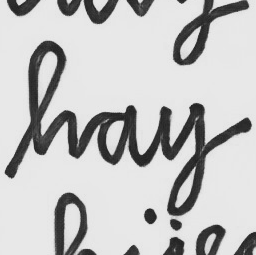a: (94, 103, 141, 168)
h: (26, 39, 85, 160)
y: (156, 100, 208, 217)
